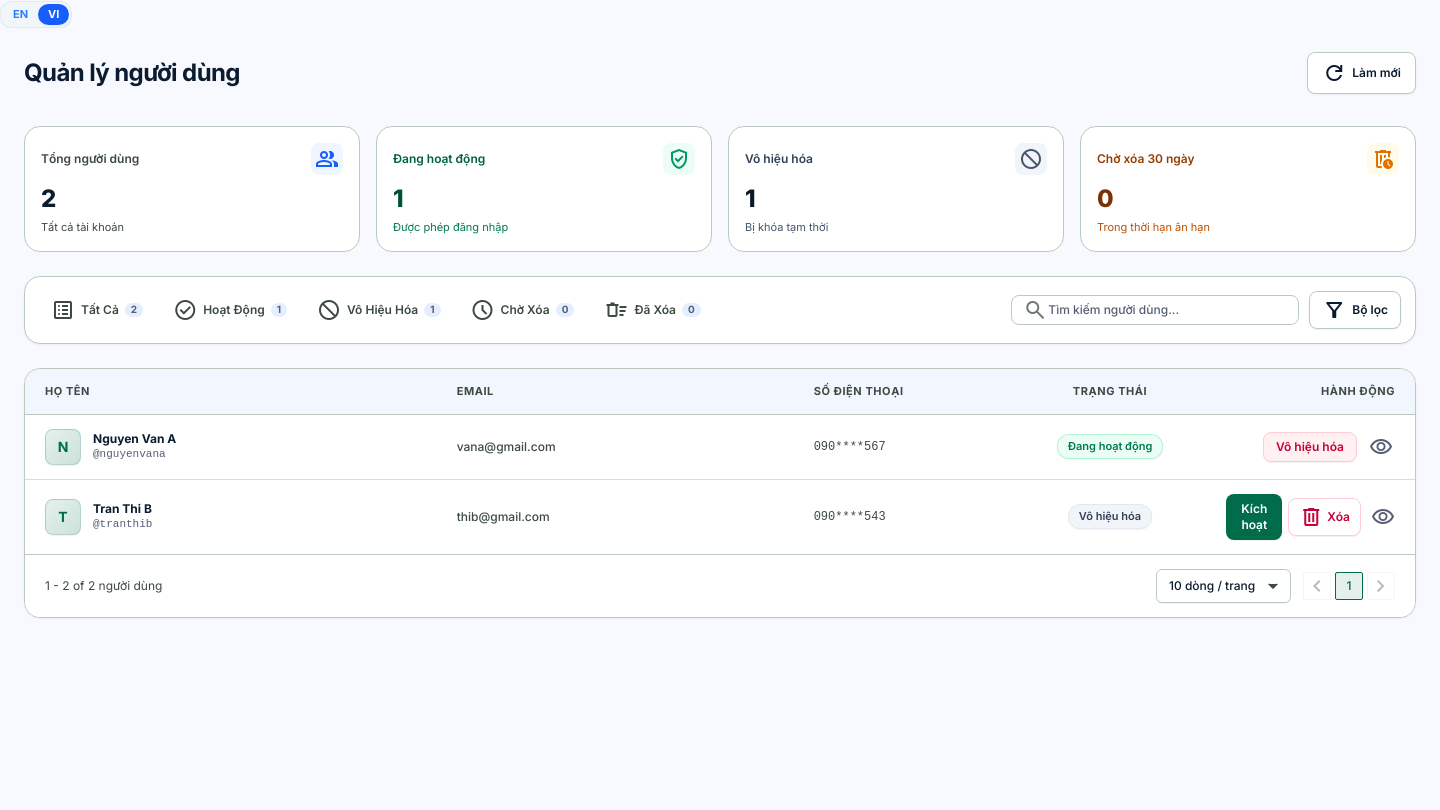
Admin-web Phase 2 i18n Suite — Core Business Pages (2-Tier Testing) › 2. UserListPage i18n Verification › 2.1. Kiểm tra bộ lọc địa điểm và văn bản hiển thị chuyển đổi sang EN
expect the field with placeholder "Tìm kiếm người dùng..." is shown: met, box [1011,295,1299,325]
expect the text "Tất Cả" is shown: met, box [81,302,119,318]
// Mở modal filter
Step 1. Click the button "Bộ lọc" → (1355, 310), box [1309,291,1401,329]
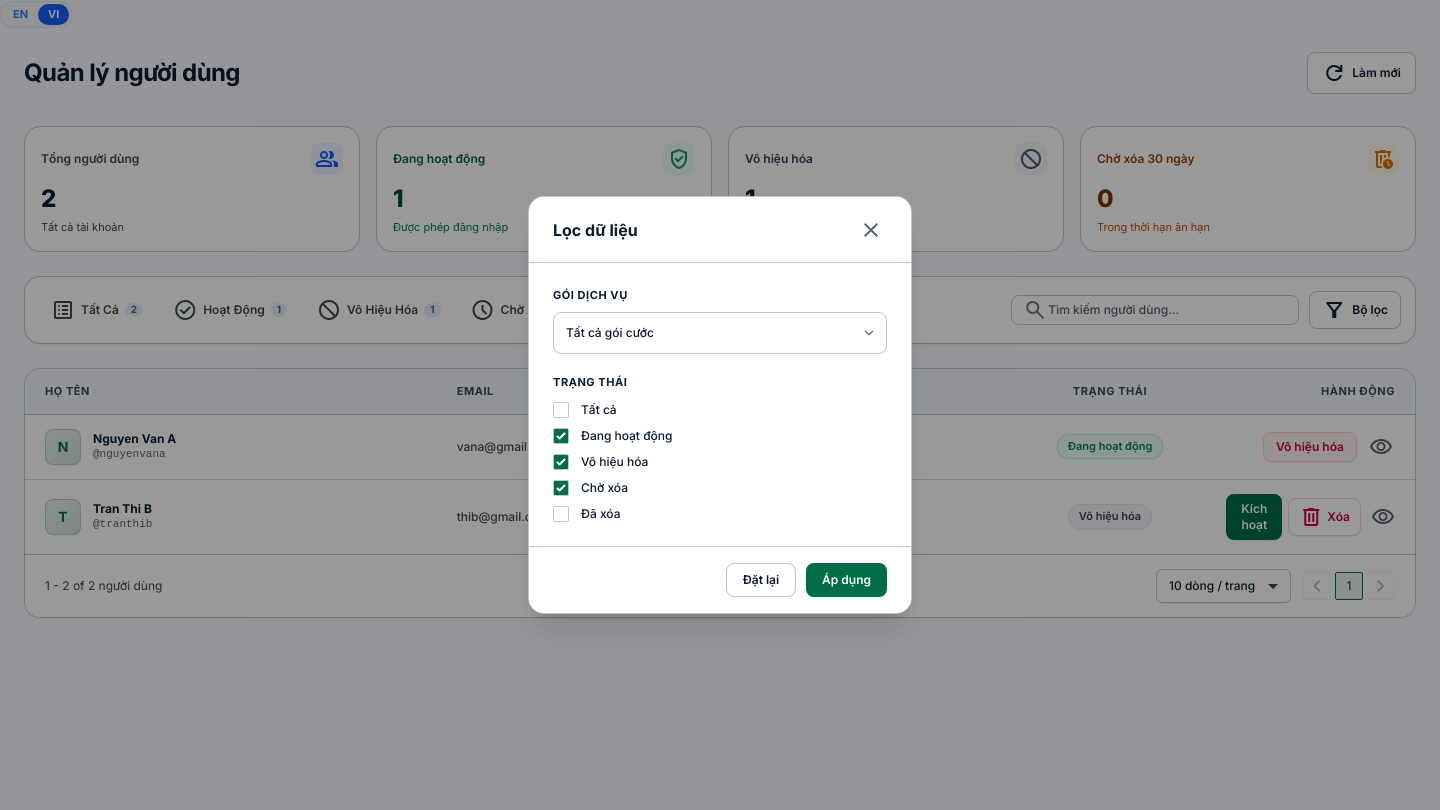
expect the text "Đang hoạt động" in the row of "Tổng người dùng" is shown: met, box [393,150,485,166]
expect the heading "Lọc dữ liệu" is shown: met, box [553,218,638,242]
// Đóng filter modal
Step 2. Click the button "Đặt lại" → (761, 580), box [726,563,796,597]
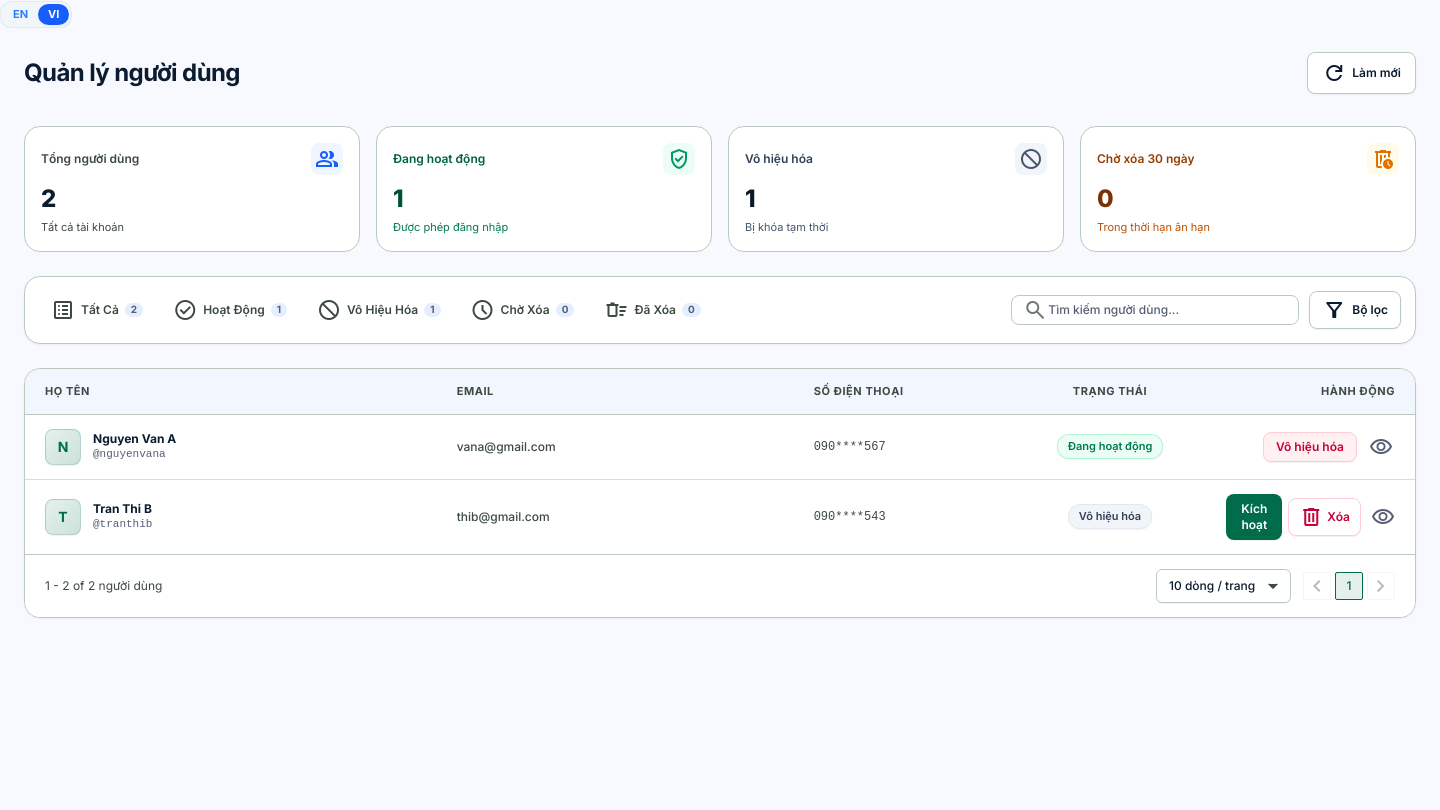
// Tier 2: Chuyển ngữ sang EN
Step 3. Click the button with test id "lang-btn-en" → (21, 14), box [3,4,38,24]
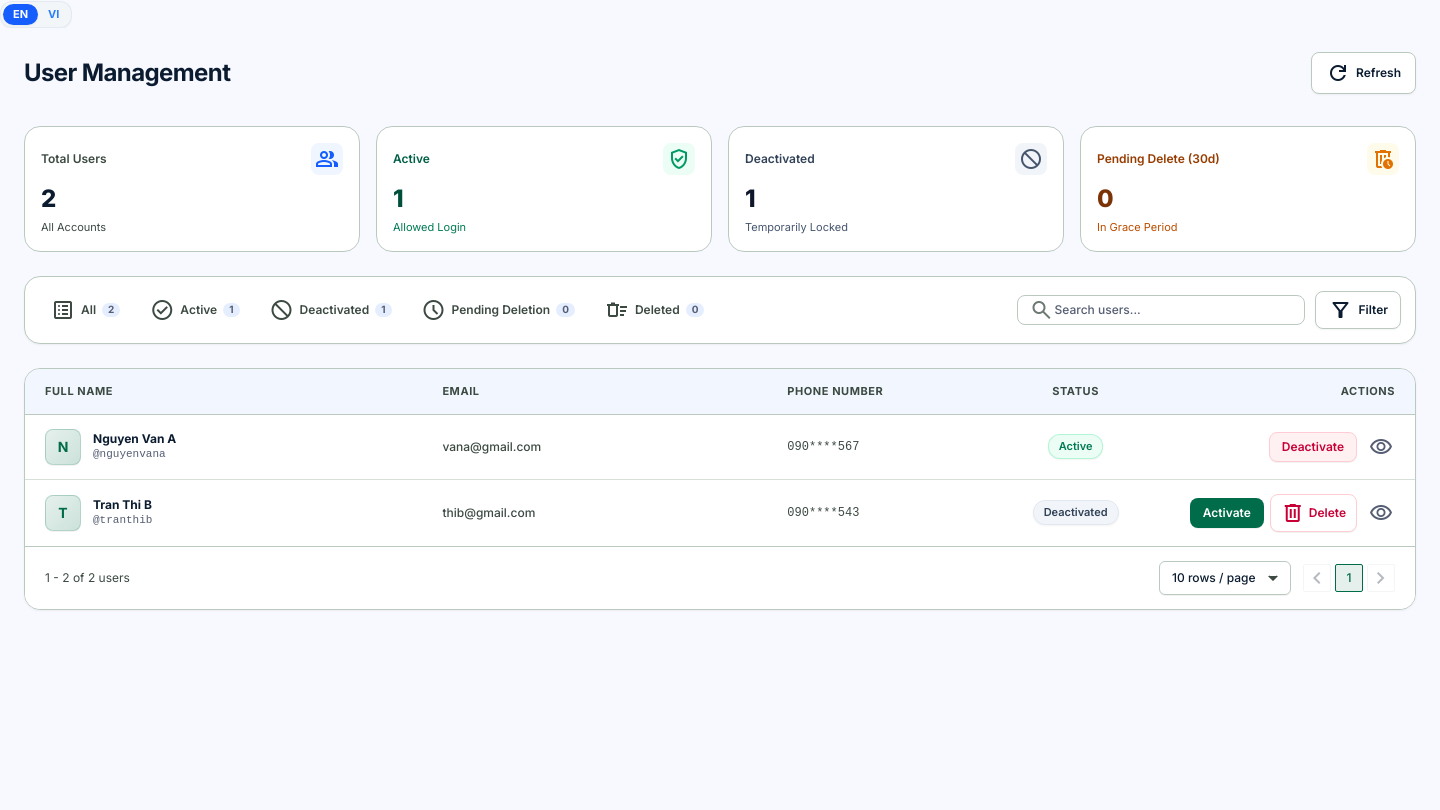
expect the field with placeholder "Search users..." is shown: met, box [1018,295,1306,325]
expect the text "All" is shown: met, box [81,302,96,318]
// Mở lại modal filter để kiểm tra location EN
Step 4. Click the button "Filter" → (1358, 310), box [1316,291,1401,329]
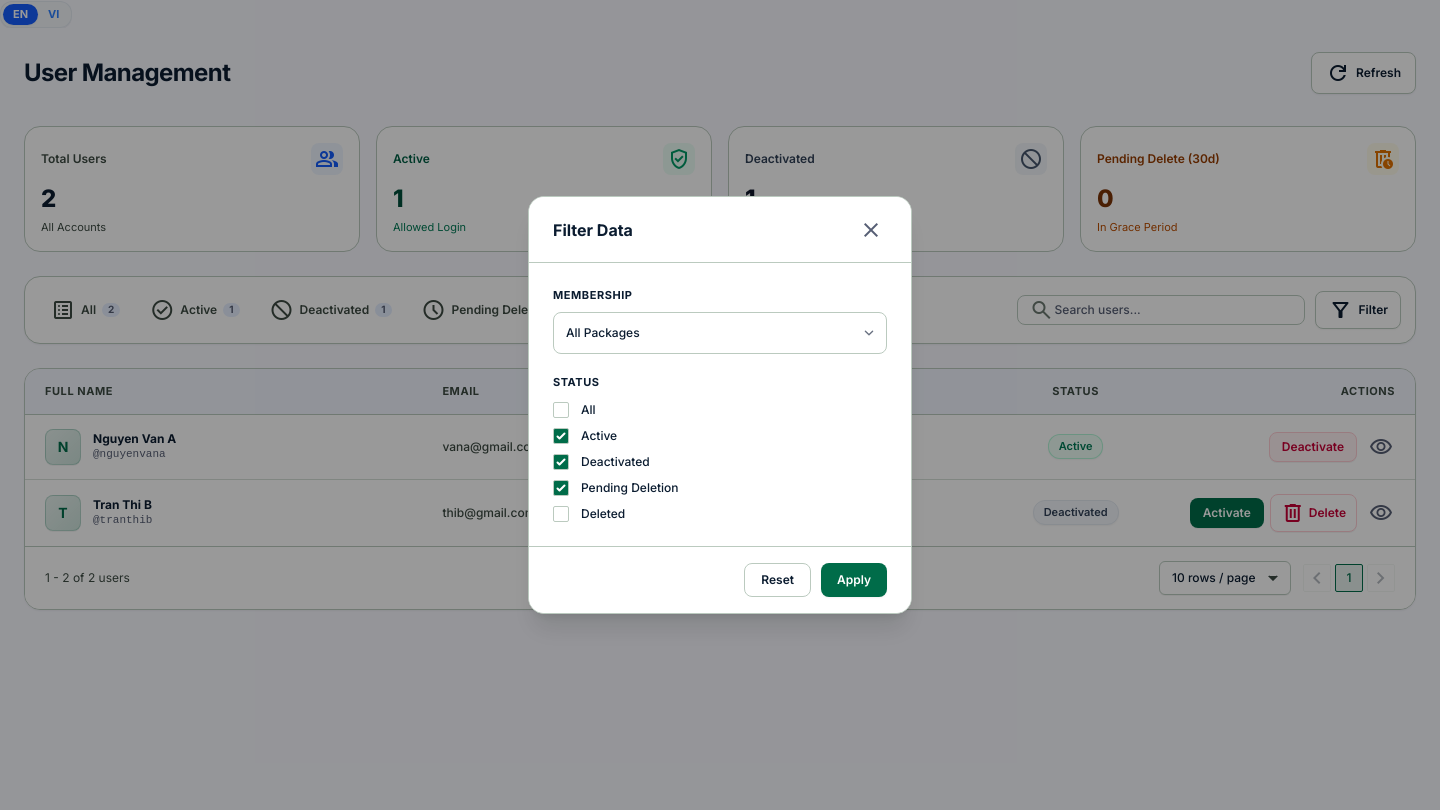
expect the text "Active" in the row of "Total Users" is shown: met, box [393,150,430,166]
expect the heading "Filter Data" is shown: met, box [553,218,633,242]
